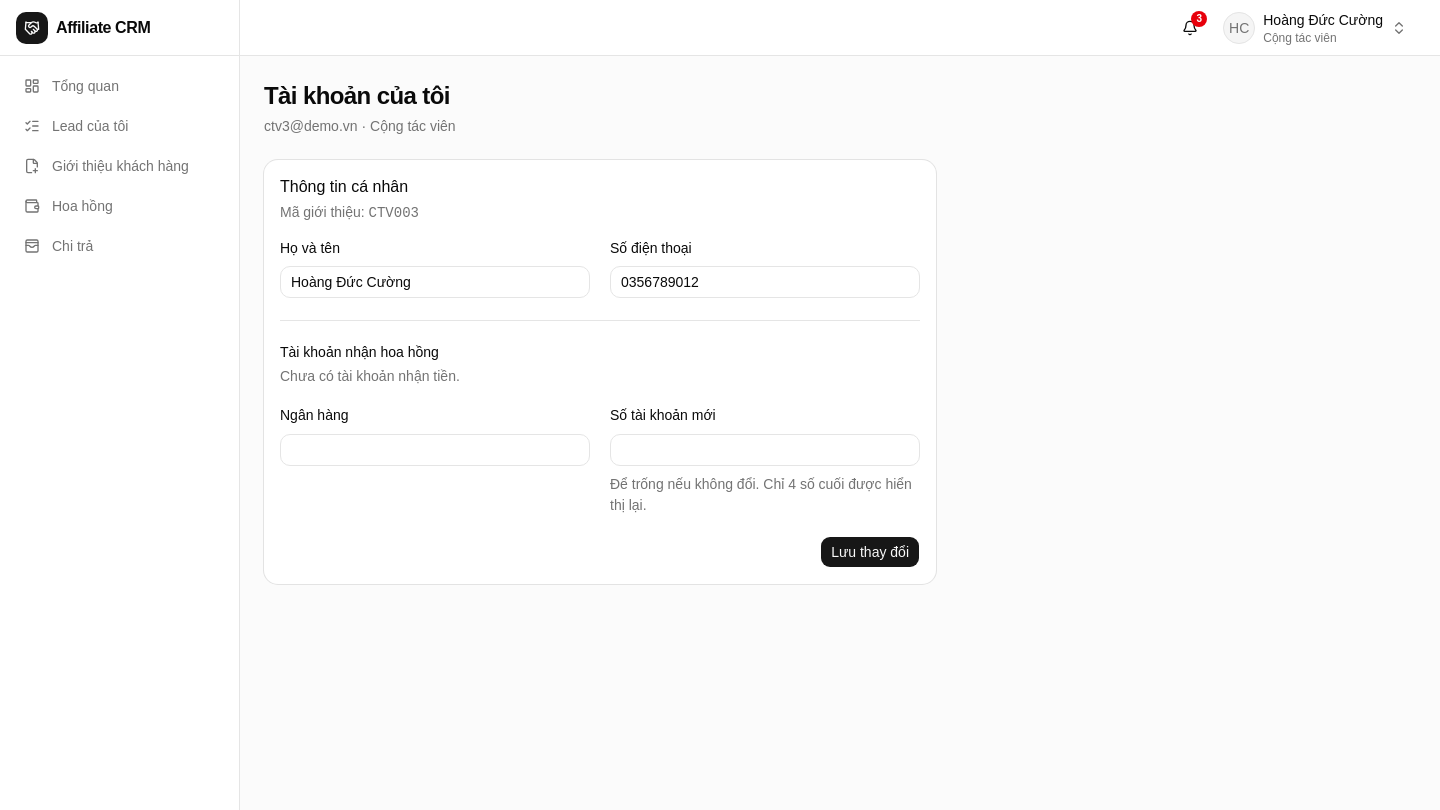
ProfilePage › lets an affiliate set a bank account, shown back masked
The width and height of the screenshot is (1440, 810).
Expected: the text "Chưa có tài khoản nhận tiền." is shown, [280,368,460,384]
Step 1. Type "MB Bank" into the field labelled "Ngân hàng" → (435, 450), box [280,434,590,466]
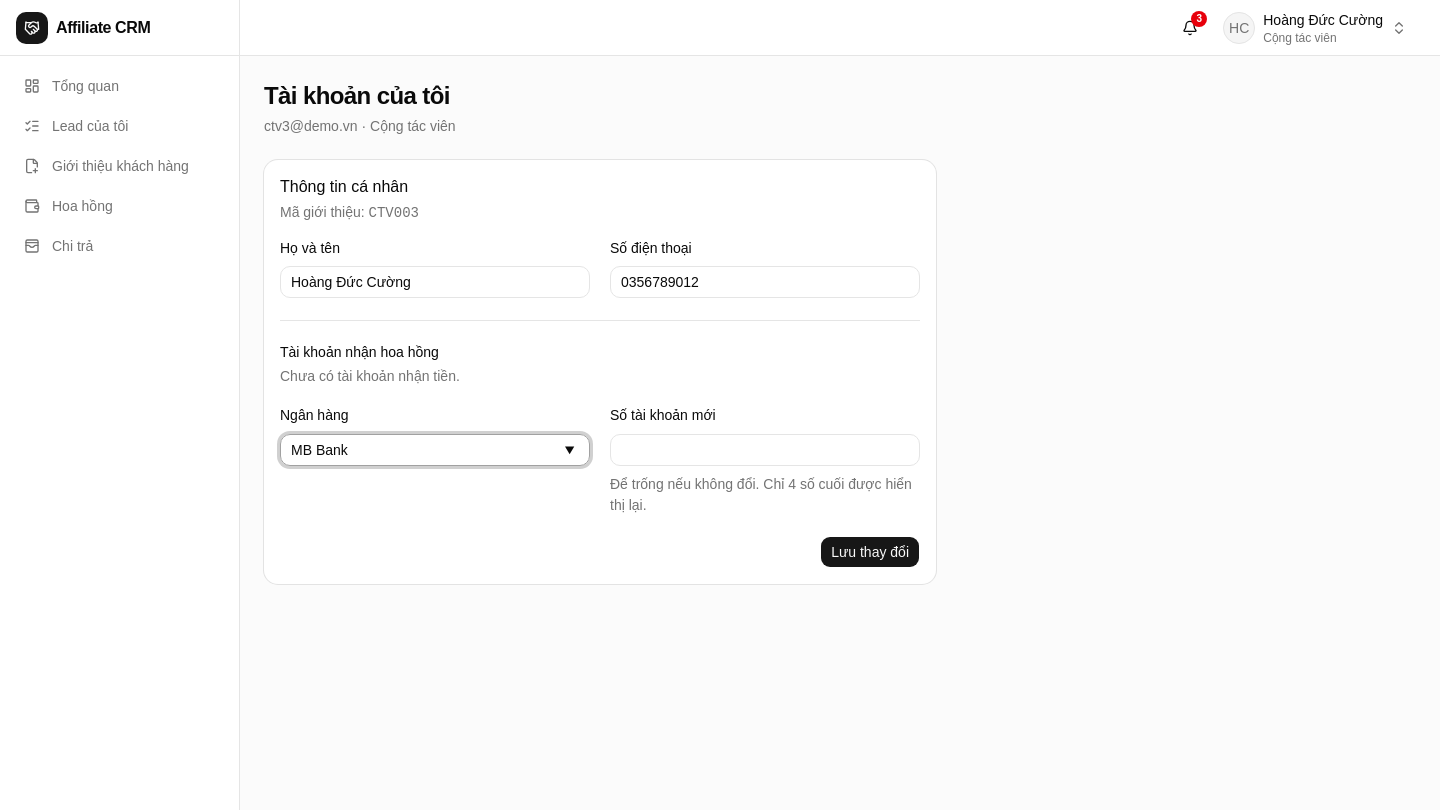
Step 2. Type "12345" into the field labelled "Số tài khoản mới" → (765, 450), box [610,434,920,466]
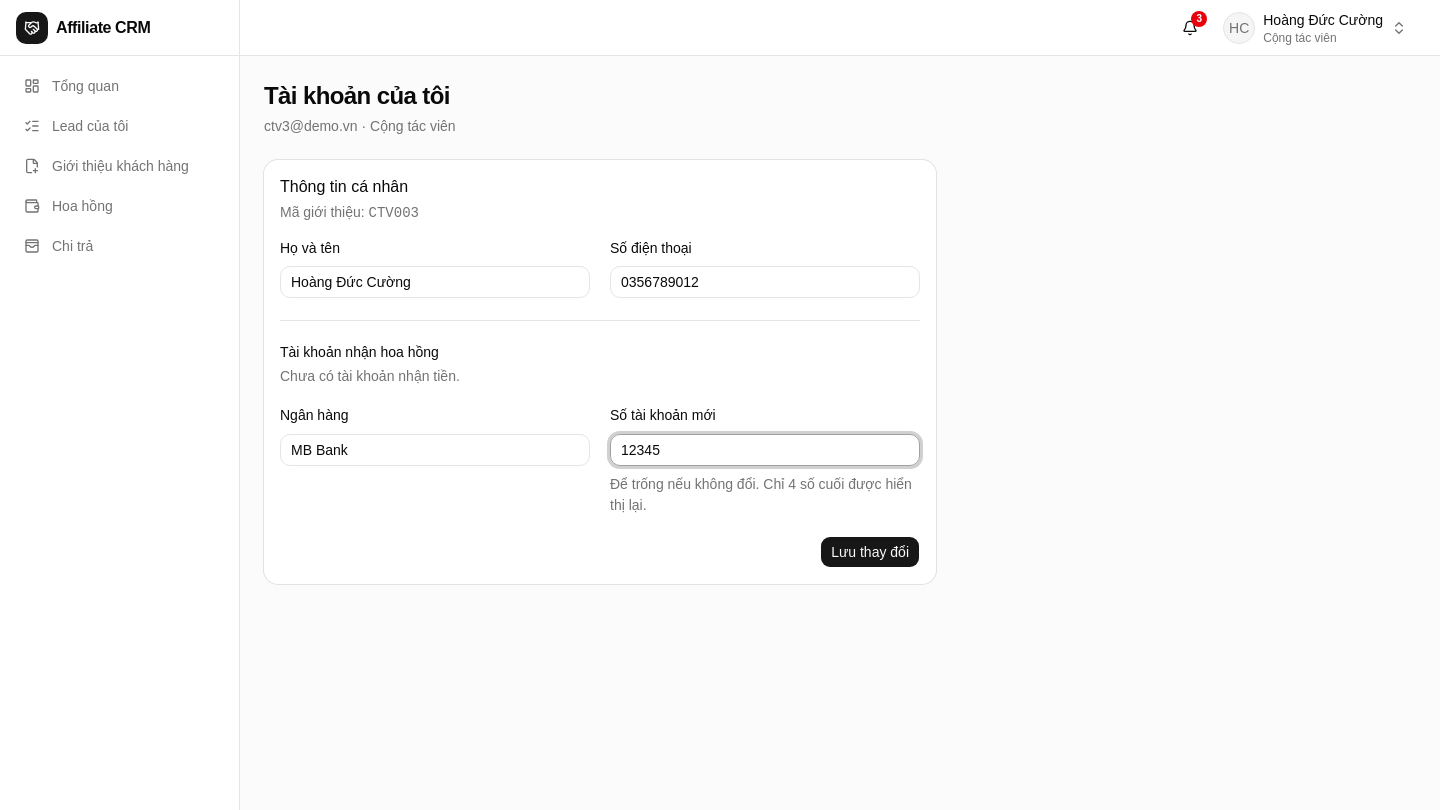
Step 3. Click the button "Lưu thay đổi" → (870, 552), box [820,536,920,568]
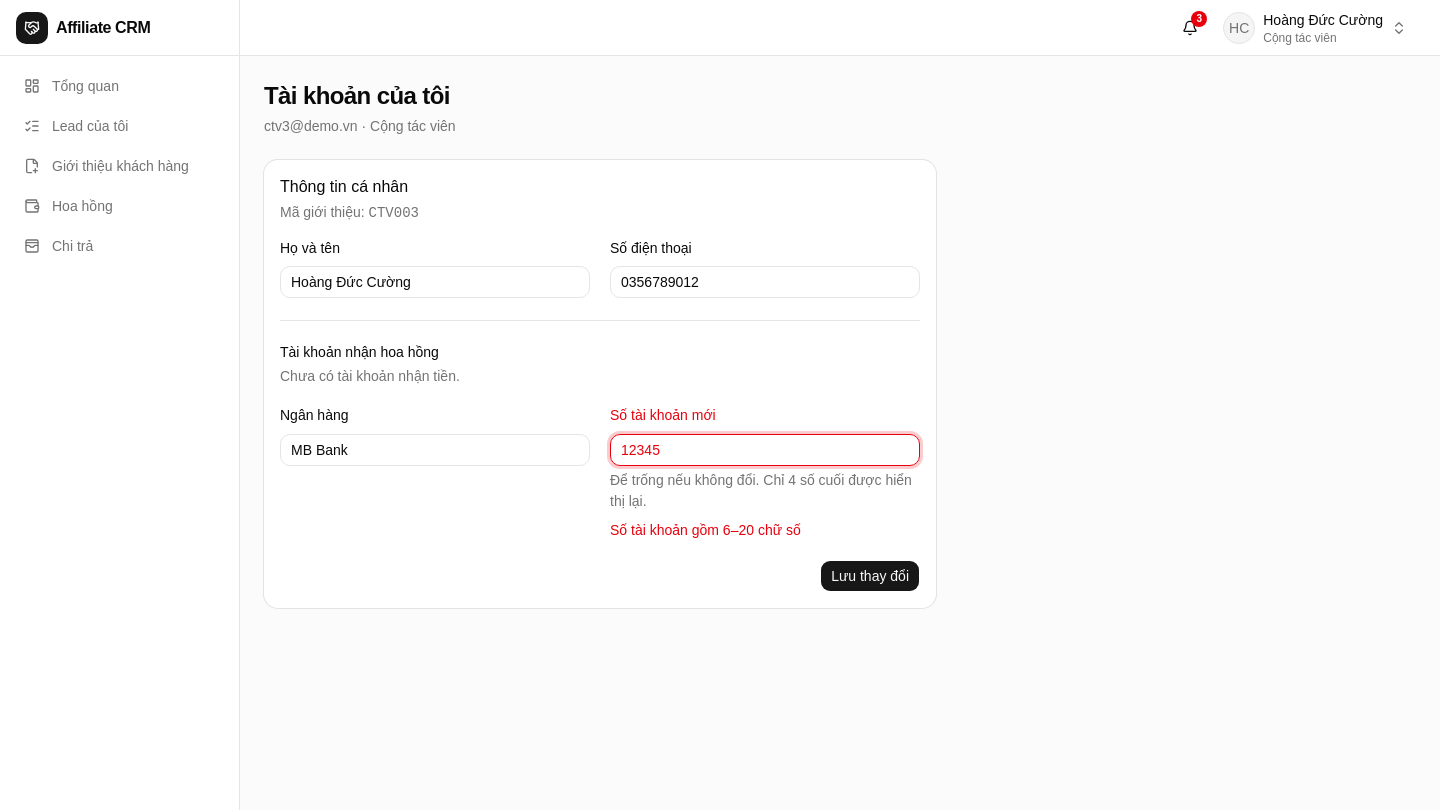
Expected: the text "Số tài khoản gồm 6–20 chữ số" is shown, [610,522,801,538]
Step 4. Replace the text in the field labelled "Số tài khoản mới" with "0123 4567 89" → (765, 450), box [610,434,920,466]
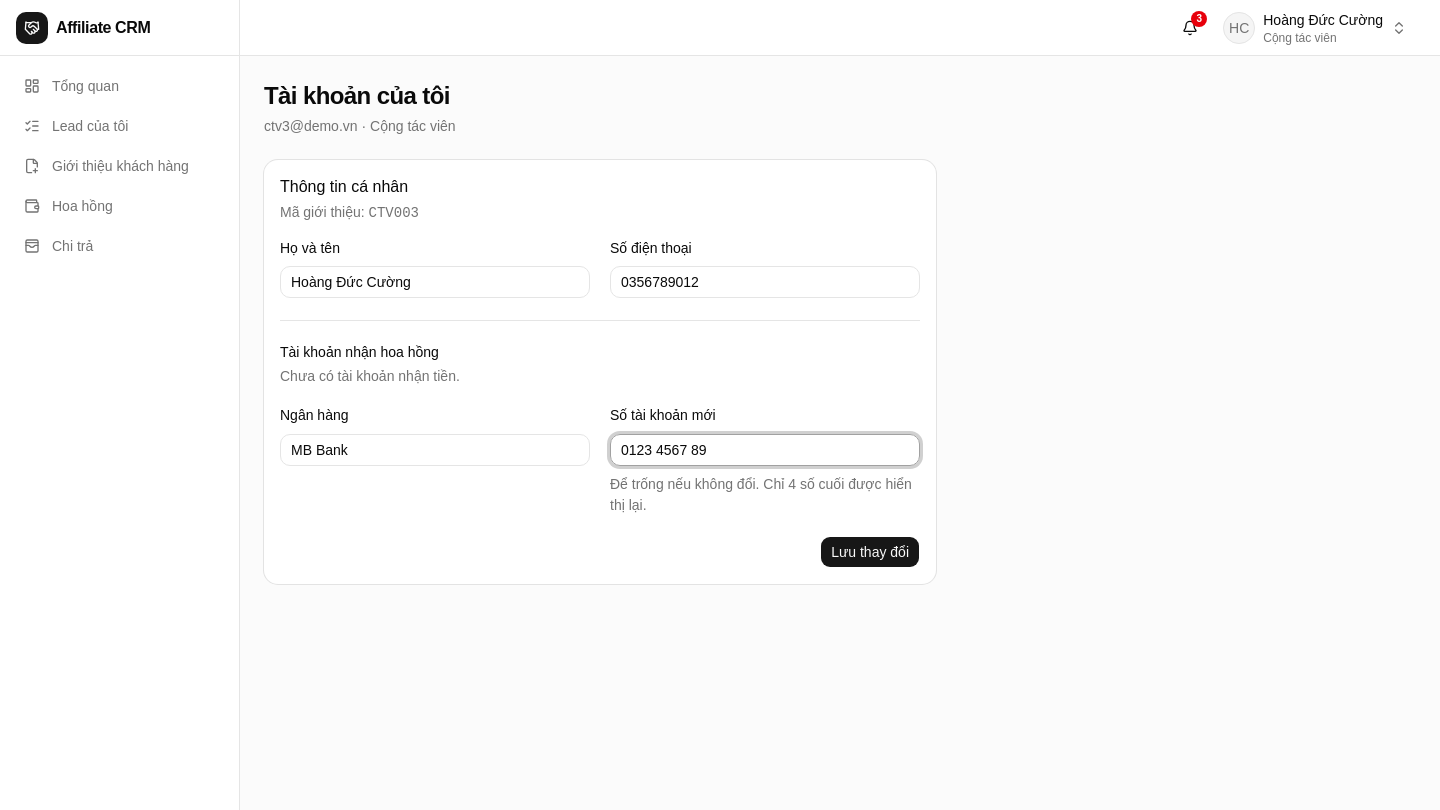
Step 5. Click the button "Lưu thay đổi" → (870, 552), box [820,536,920,568]
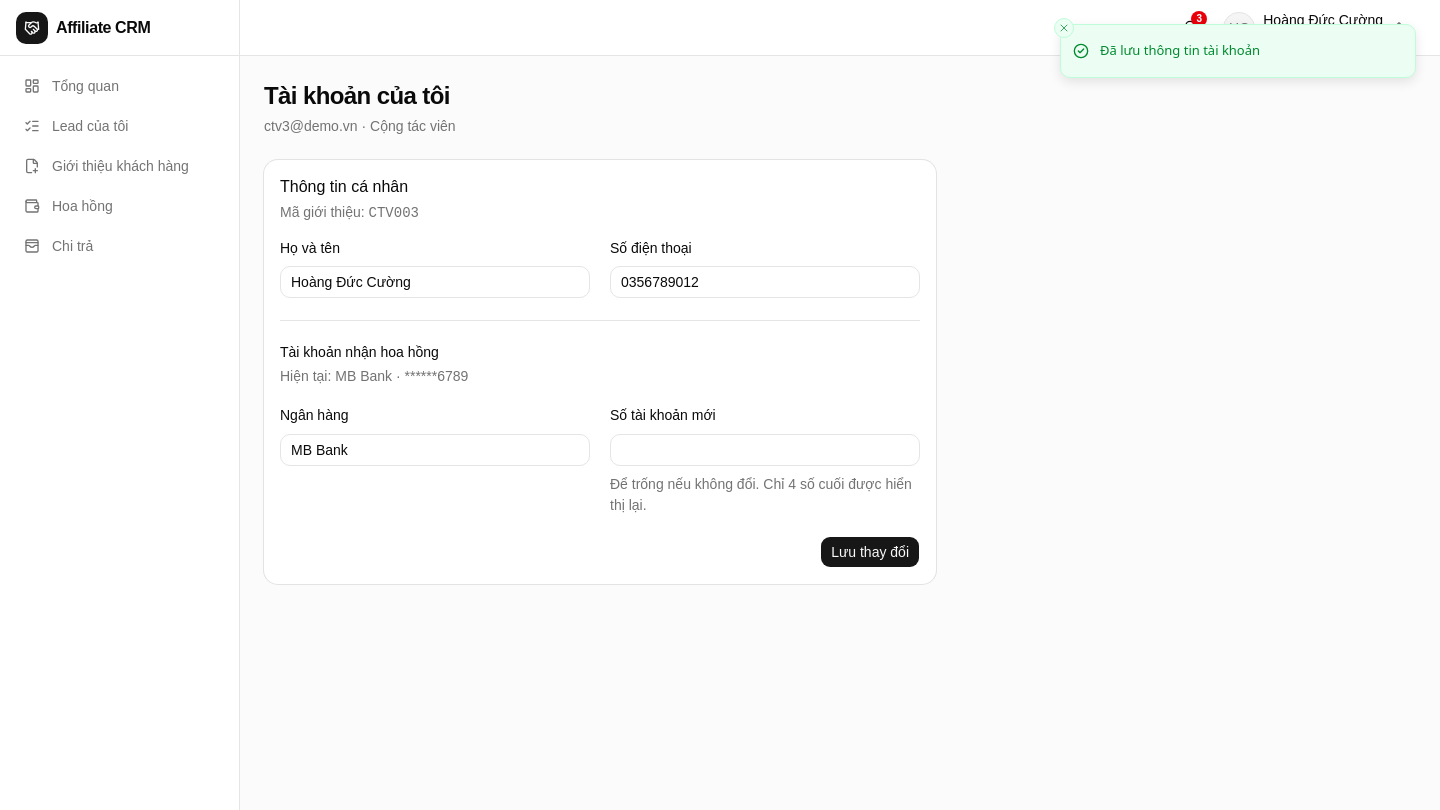
Expected: the text "Hiện tại: MB Bank · ******6789" is shown, [280,368,468,384]
